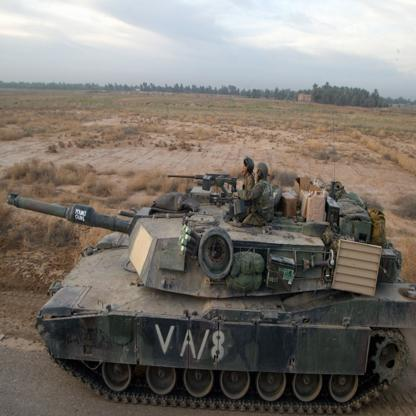Tank: (6, 158, 416, 416)
